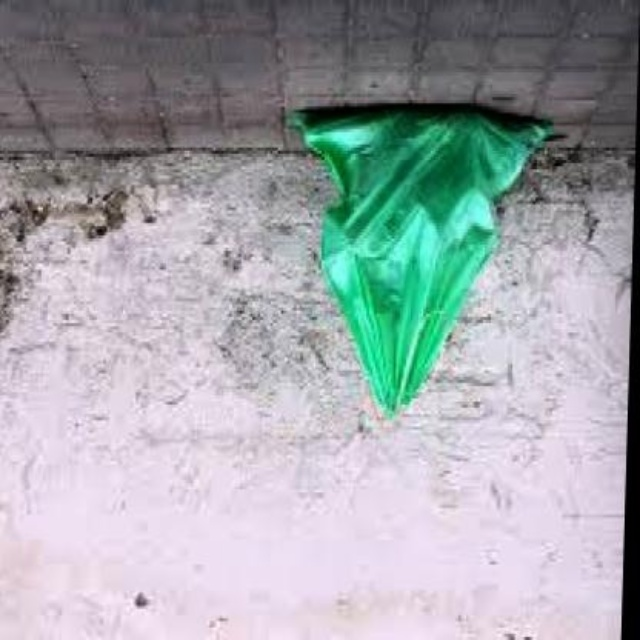trash: (297, 105, 551, 417)
